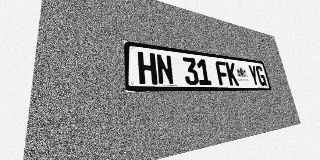1: (196, 58, 212, 85)
3: (182, 57, 199, 85)
F: (215, 61, 230, 85)
G: (255, 66, 267, 86)
H: (137, 51, 158, 85)
K: (225, 62, 239, 86)
N: (156, 54, 174, 85)
Y: (248, 65, 260, 86)
